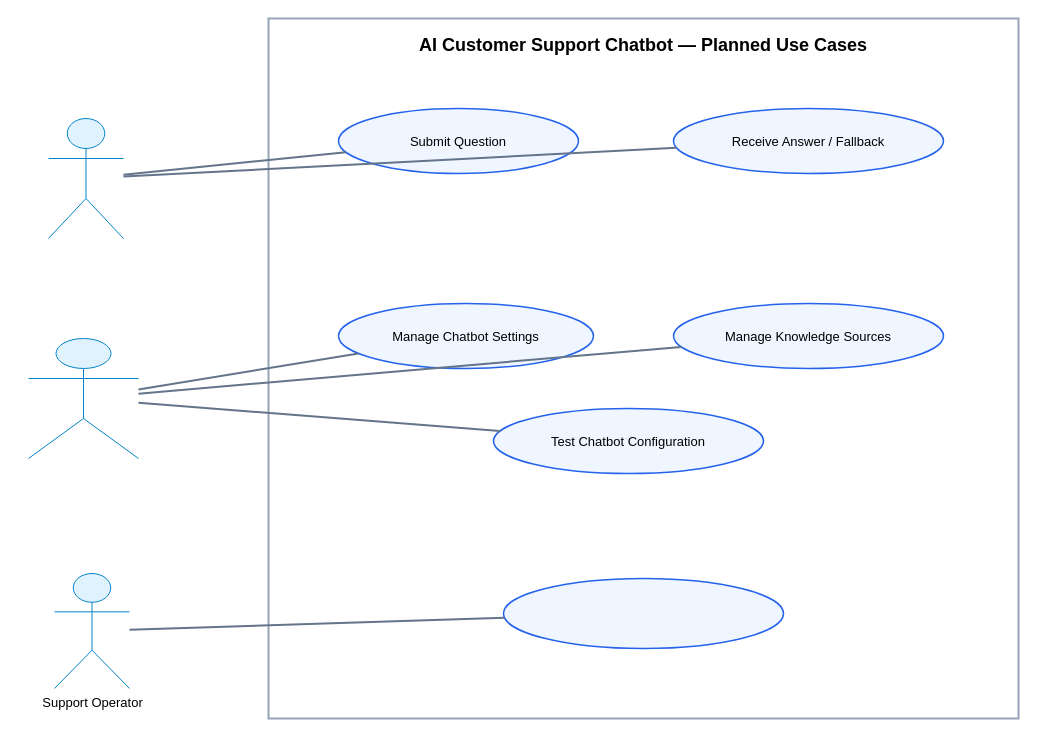
This 1037x736 diagram has some shape labels left out. Here are the shapes that lost their labels. From the top down, the centre of each, then its label:
point 86,178: Customer
point 83,398: Business Administrator
point 643,613: Handle Escalated Question (planned)
